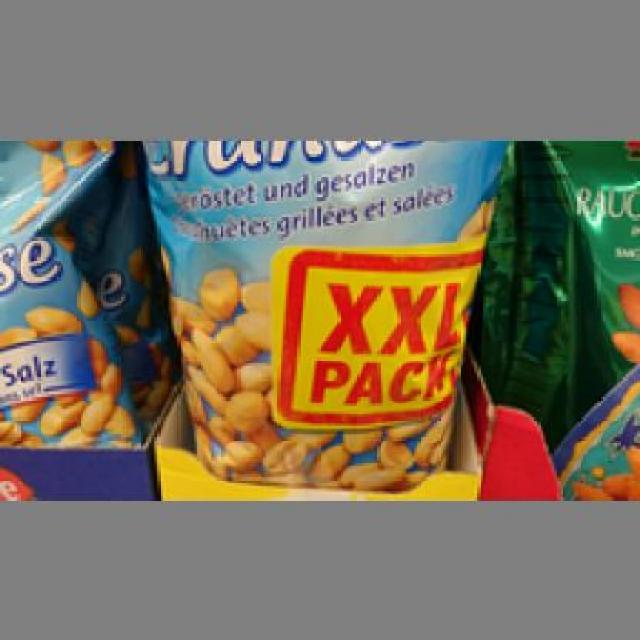Nuts: (140, 137, 509, 490)
